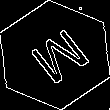M_SE: (18, 21, 92, 89)
